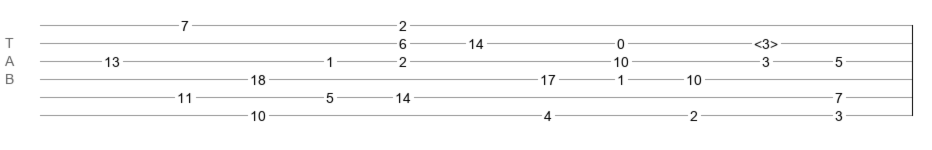0: (617, 36, 625, 46)
1: (326, 54, 334, 64), (617, 72, 625, 82)
10: (250, 108, 266, 118), (613, 54, 629, 64), (686, 72, 702, 82)
11: (177, 90, 193, 100)
13: (104, 54, 120, 64)
14: (395, 90, 411, 100), (468, 36, 484, 46)
17: (540, 72, 556, 82)
18: (250, 72, 266, 82)
2: (399, 54, 407, 64), (399, 18, 407, 28), (690, 108, 698, 118)
3: (762, 54, 770, 64), (835, 108, 843, 118)
4: (544, 108, 552, 118)
5: (326, 90, 334, 100), (835, 54, 843, 64)
6: (399, 36, 407, 46)
7: (181, 18, 189, 28), (835, 90, 843, 100)
harmonic: (754, 36, 778, 46)
